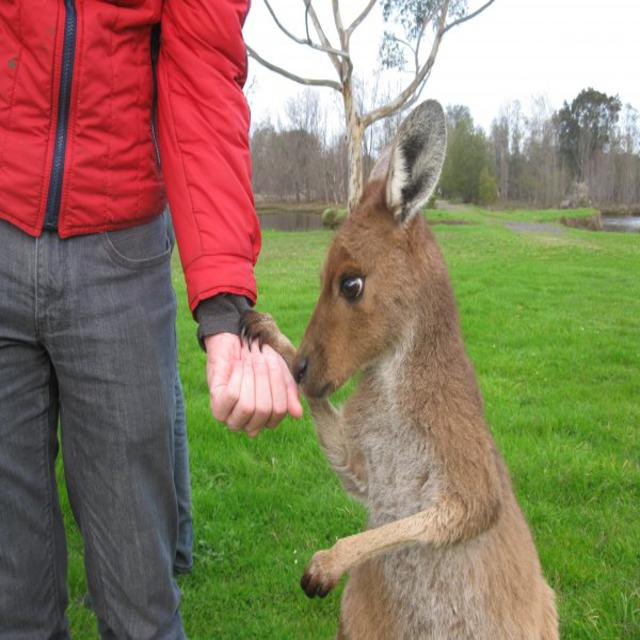kangaroo: (290, 95, 475, 636)
